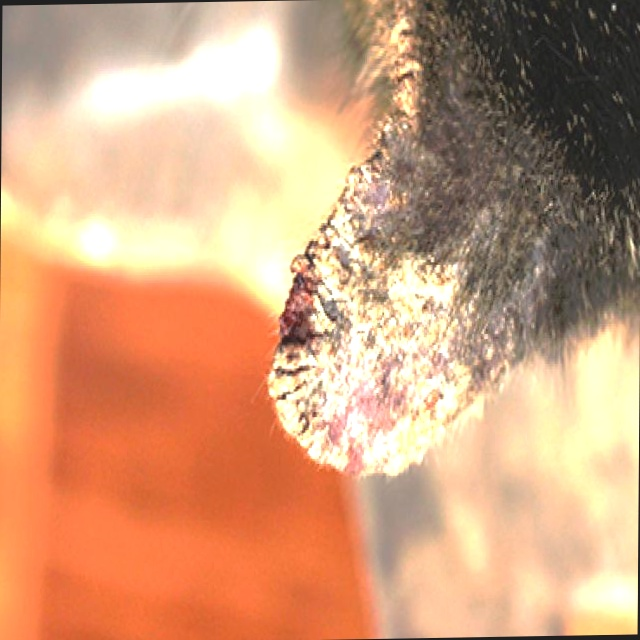ringworm: (283, 216, 491, 460)
